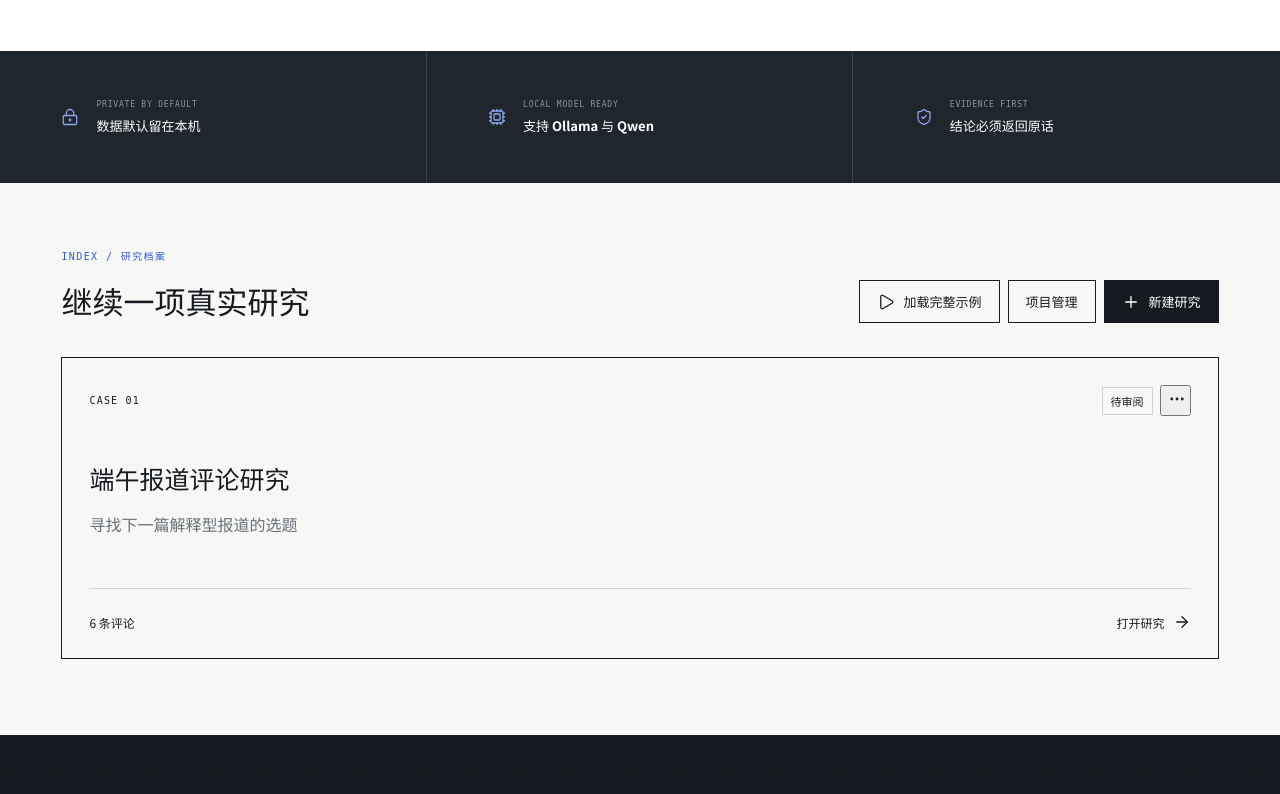
Test case: Content Intelligence Lab › offers a complete example and project lifecycle controls
(page scrolled)
Expected: the button "加载完整示例" is shown, [858,280,1000,323]
Click the button named "项目操作" at (1175, 401), box [1160,385,1191,416]
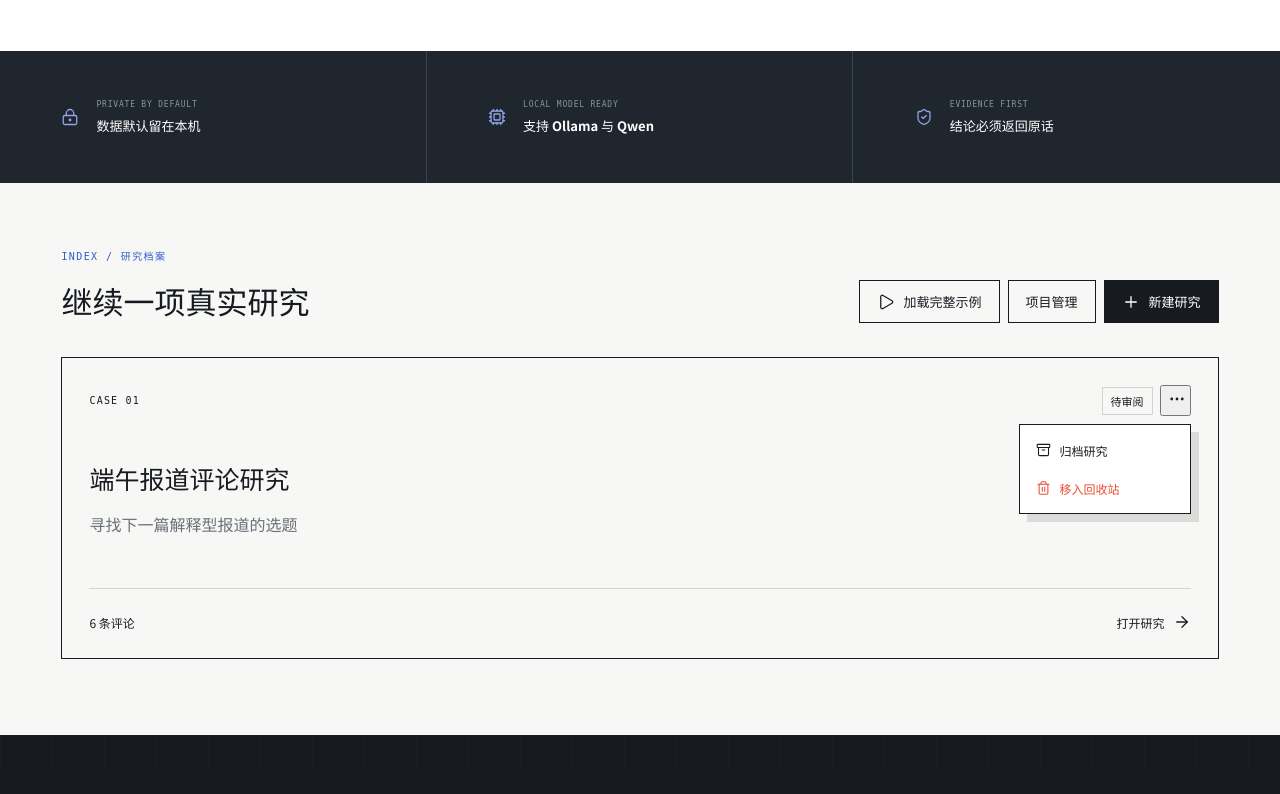
Result: the button "归档研究" is shown at [1026,431,1184,469]
Result: the button "移入回收站" is shown at [1026,469,1184,507]
